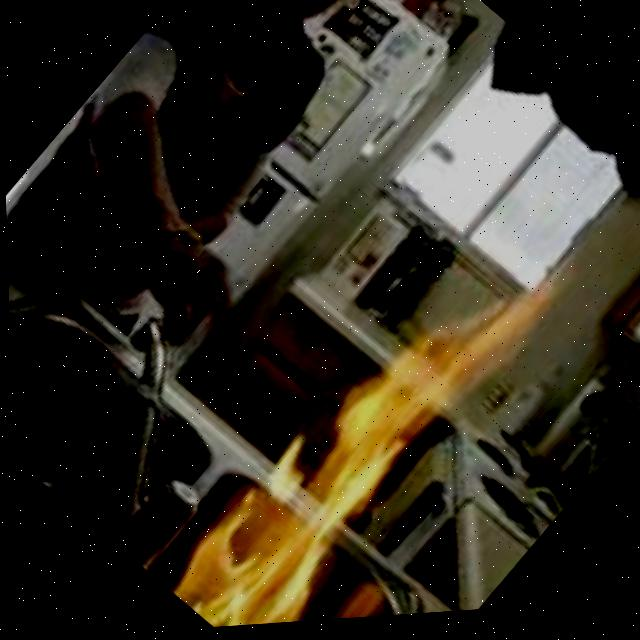Fire: (152, 219, 582, 632)
